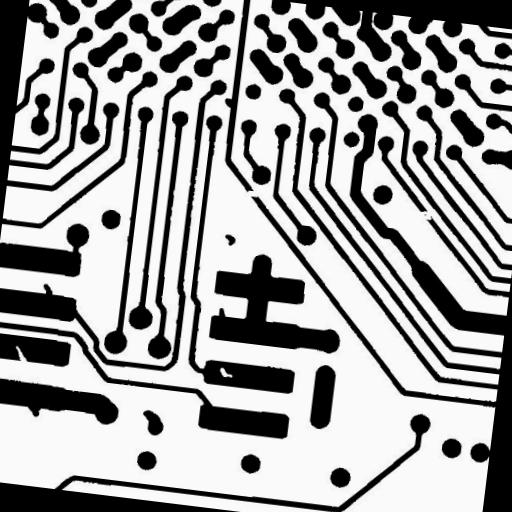copper: (132, 401, 173, 444), (216, 226, 244, 254)
mousebite: (5, 337, 39, 373)
open: (409, 202, 441, 228), (238, 182, 267, 206)
pin-hole: (210, 358, 242, 386)
spur: (18, 394, 49, 425), (34, 275, 62, 306), (208, 298, 234, 330), (216, 89, 242, 116)
